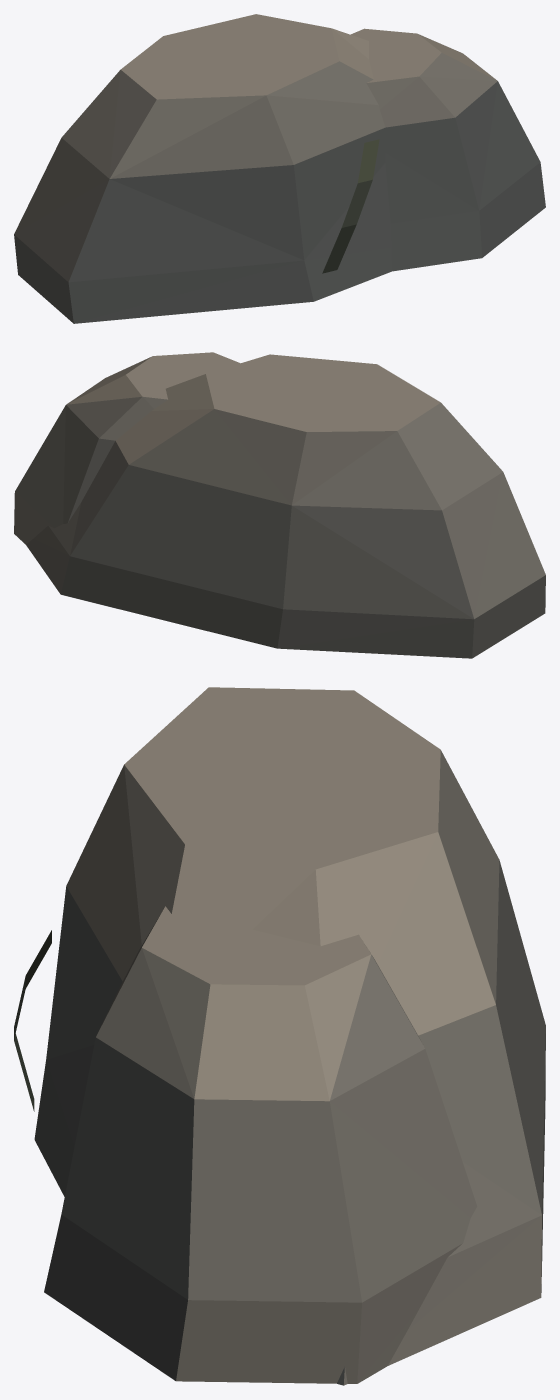
File: verdant-cliff-toe.glb
3 views of the same model, one above another, from view 1: azimuth 30°, elevation 25°; view 2: azimuth 150°, elevation 25°; view 3: azimuth 270°, elevation 25° (orthographic). The views are drawn at different scales.
Parts seen in each view (by area): view 1: verdant-cliff-toe; view 2: verdant-cliff-toe; view 3: verdant-cliff-toe.
Part boxes in pixels (<box>): verdant-cliff-toe: <box>14,14,545,323</box>; verdant-cliff-toe: <box>14,352,545,658</box>; verdant-cliff-toe: <box>14,687,545,1385</box>.
Bounding box in the file's own units: 3.48 × 1.34 × 1.82.
Materials: 1 (1 with a texture image).
